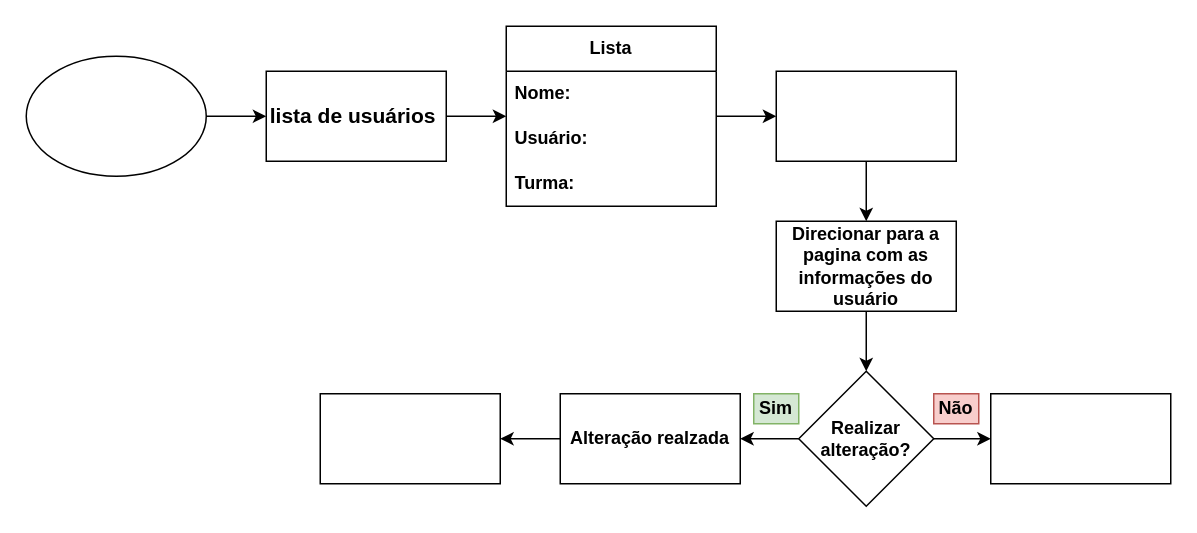
This 1197x533 diagram has some shape labels left out. Here are the shapes that lost their labels. From the top down, the centre of each, then its label:
At (115,115): "Inicio".
At (865,115): "Botões Inativar, Ativar, Deletar, Alterar".
At (409,438): "Alerta de alteração concluída direcionar para a pagina de listagem de usuário".
At (1080,438): "Voltar para a pagina anterior".
